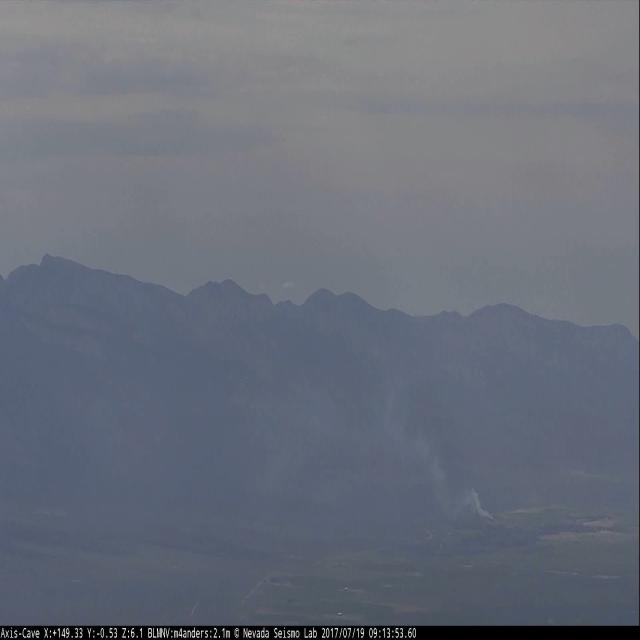smoke: (243, 370, 498, 524)
